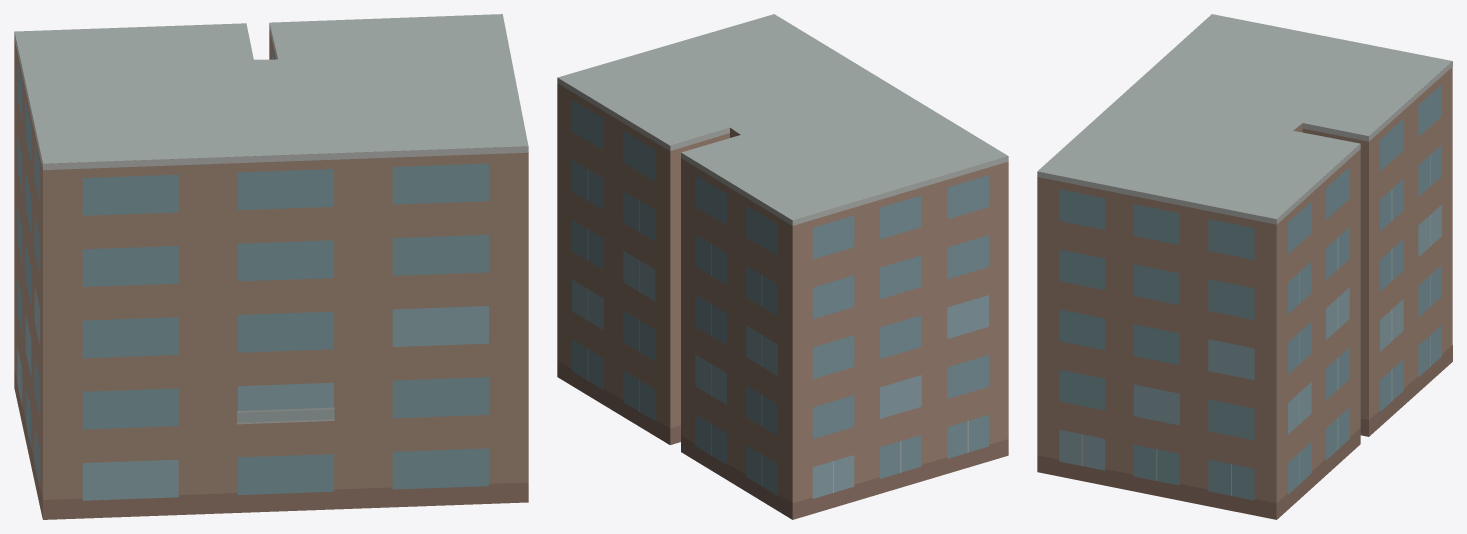
File: survey-upis-32906317.glb
3 views of the same model, side by side, from view 1: azimuth 30°, elevation 25°; view 2: azimuth 150°, elevation 25°; view 3: azimuth 270°, elevation 25° (orthographic). The views are drawn at different scales.
Visible parts, largest first — view 1: survey-upis-32906317.tmp; view 2: survey-upis-32906317.tmp; view 3: survey-upis-32906317.tmp.
Part boxes in pixels (x1=…): survey-upis-32906317.tmp: x1=14, y1=14, x2=528, y2=519; survey-upis-32906317.tmp: x1=557, y1=14, x2=1008, y2=519; survey-upis-32906317.tmp: x1=1037, y1=14, x2=1452, y2=519.
Size of the model in its own units: 19.63 by 13.4 by 16.79.
